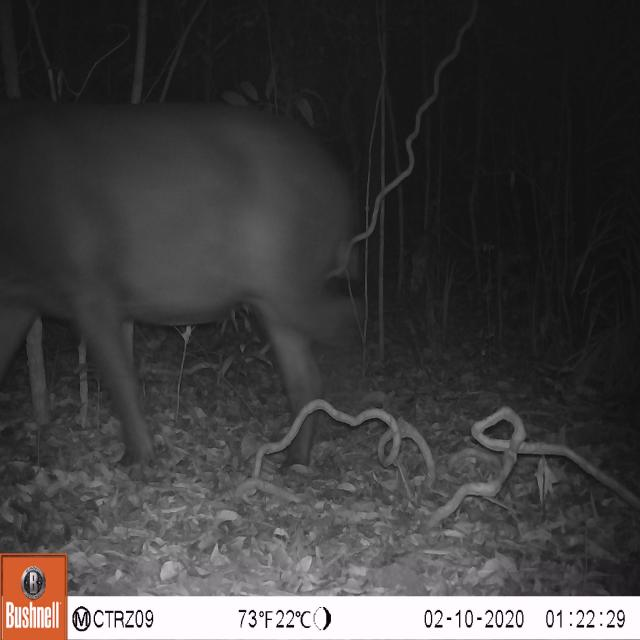Lowland Tapir: (0, 100, 352, 468)
